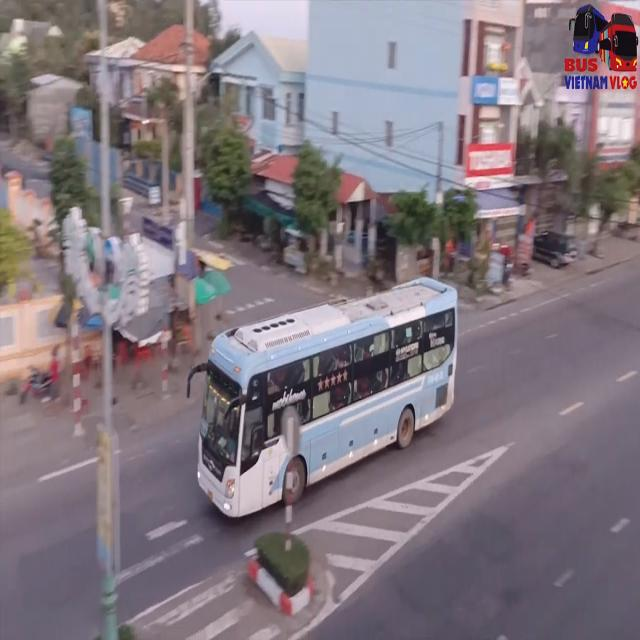bus: (196, 278, 458, 516)
